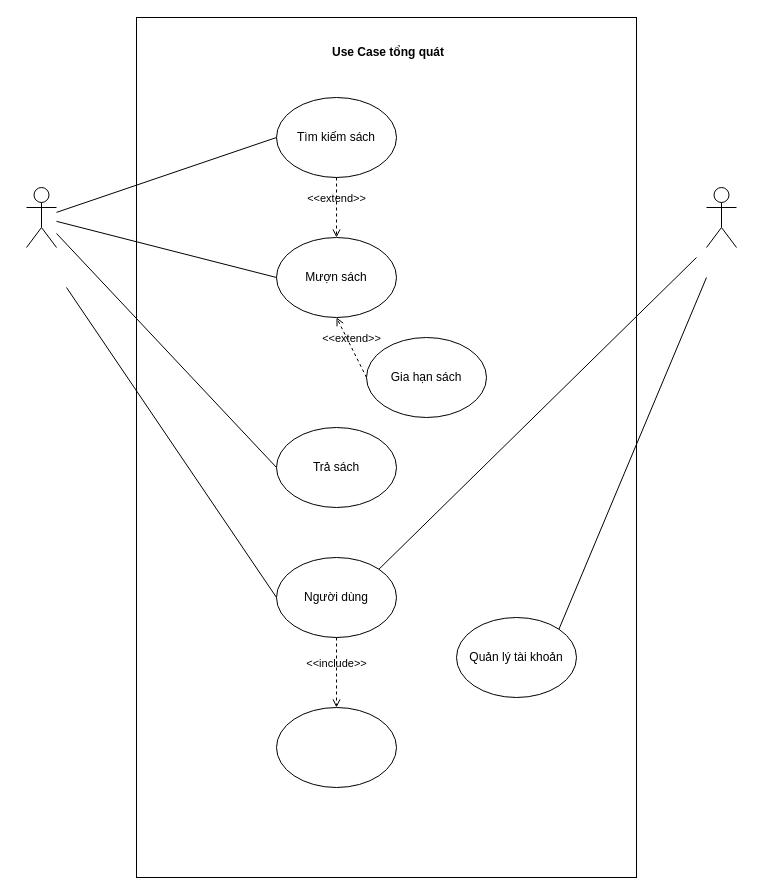
The diagram is 760 pixels wide and 895 high, and some of its shapes have lost their labels. The shapes that lost their labels are listed below. From the top down, each one's centre as x and y in pixels, then its label:
the point at 41,217: Sinh viên
the point at 721,217: Thủ thư
the point at 336,747: Đăng nhập
